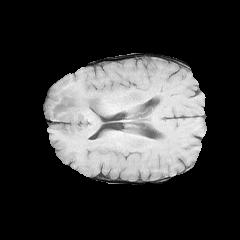glioma: (46, 87, 108, 134)
